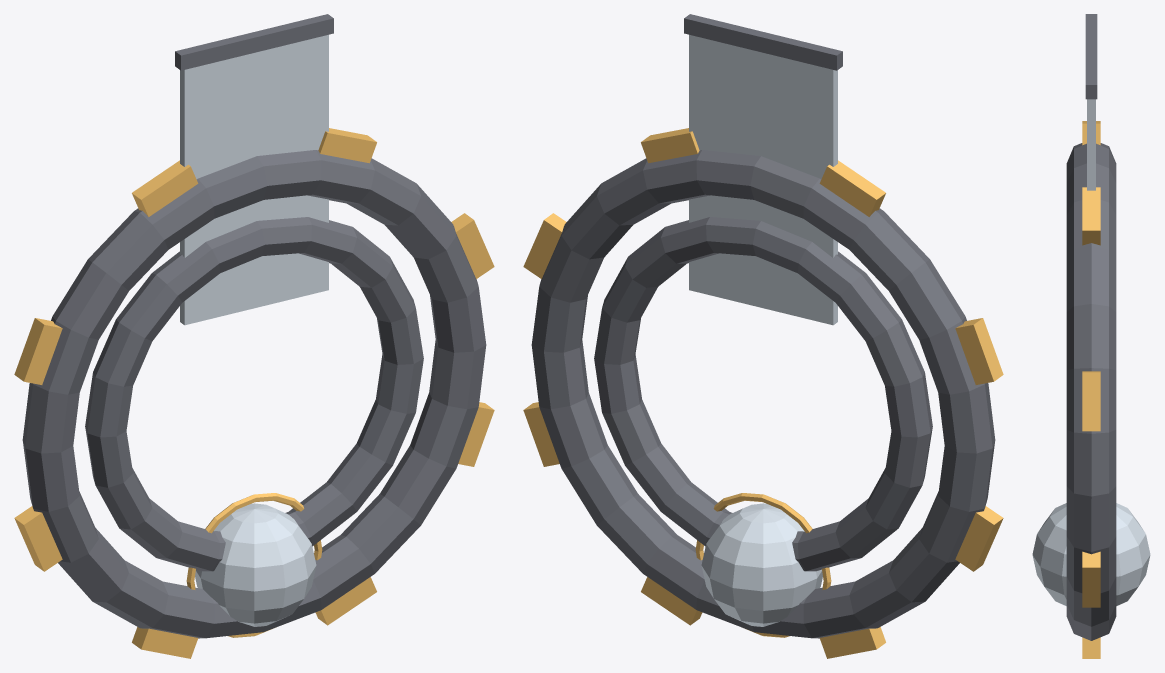
The model's file is ui_stage.fbx.
3 views of the same model, side by side, from view 1: azimuth 30°, elevation 25°; view 2: azimuth 150°, elevation 25°; view 3: azimuth 270°, elevation 25° (orthographic). The views are drawn at different scales.
Visible parts, largest first — view 1: IrisOuter__UI_Dark, IrisInner__UI_Dark, Petal__UI_Glass, IrisOuter__UI_Accent, Orb__UI_Glass, Petal__UI_Dark, Orb__UI_Accent; view 2: IrisOuter__UI_Dark, IrisInner__UI_Dark, Petal__UI_Glass, IrisOuter__UI_Accent, Orb__UI_Glass, Petal__UI_Dark, Orb__UI_Accent; view 3: IrisOuter__UI_Dark, Orb__UI_Glass, IrisOuter__UI_Accent, Petal__UI_Dark, Petal__UI_Glass.
Boxes of the visible parts, x1,y1,x2,y2 form: IrisOuter__UI_Dark: (22,150,486,638); IrisInner__UI_Dark: (85,217,423,571); Petal__UI_Glass: (180,34,328,325); IrisOuter__UI_Accent: (14,128,494,658); Orb__UI_Glass: (195,503,316,626); Petal__UI_Dark: (175,14,333,70); Orb__UI_Accent: (186,493,322,637); IrisOuter__UI_Dark: (531,150,995,638); IrisInner__UI_Dark: (594,217,932,571); Petal__UI_Glass: (689,34,837,325); IrisOuter__UI_Accent: (523,128,1003,658); Orb__UI_Glass: (701,503,822,626); Petal__UI_Dark: (684,14,842,70); Orb__UI_Accent: (695,493,831,637); IrisOuter__UI_Dark: (1066,143,1116,640); Orb__UI_Glass: (1032,503,1150,606); IrisOuter__UI_Accent: (1082,121,1100,658); Petal__UI_Dark: (1085,14,1097,99); Petal__UI_Glass: (1087,99,1095,190).
Bounding box in the file's own units: 22.8 × 27.95 × 5.2.
